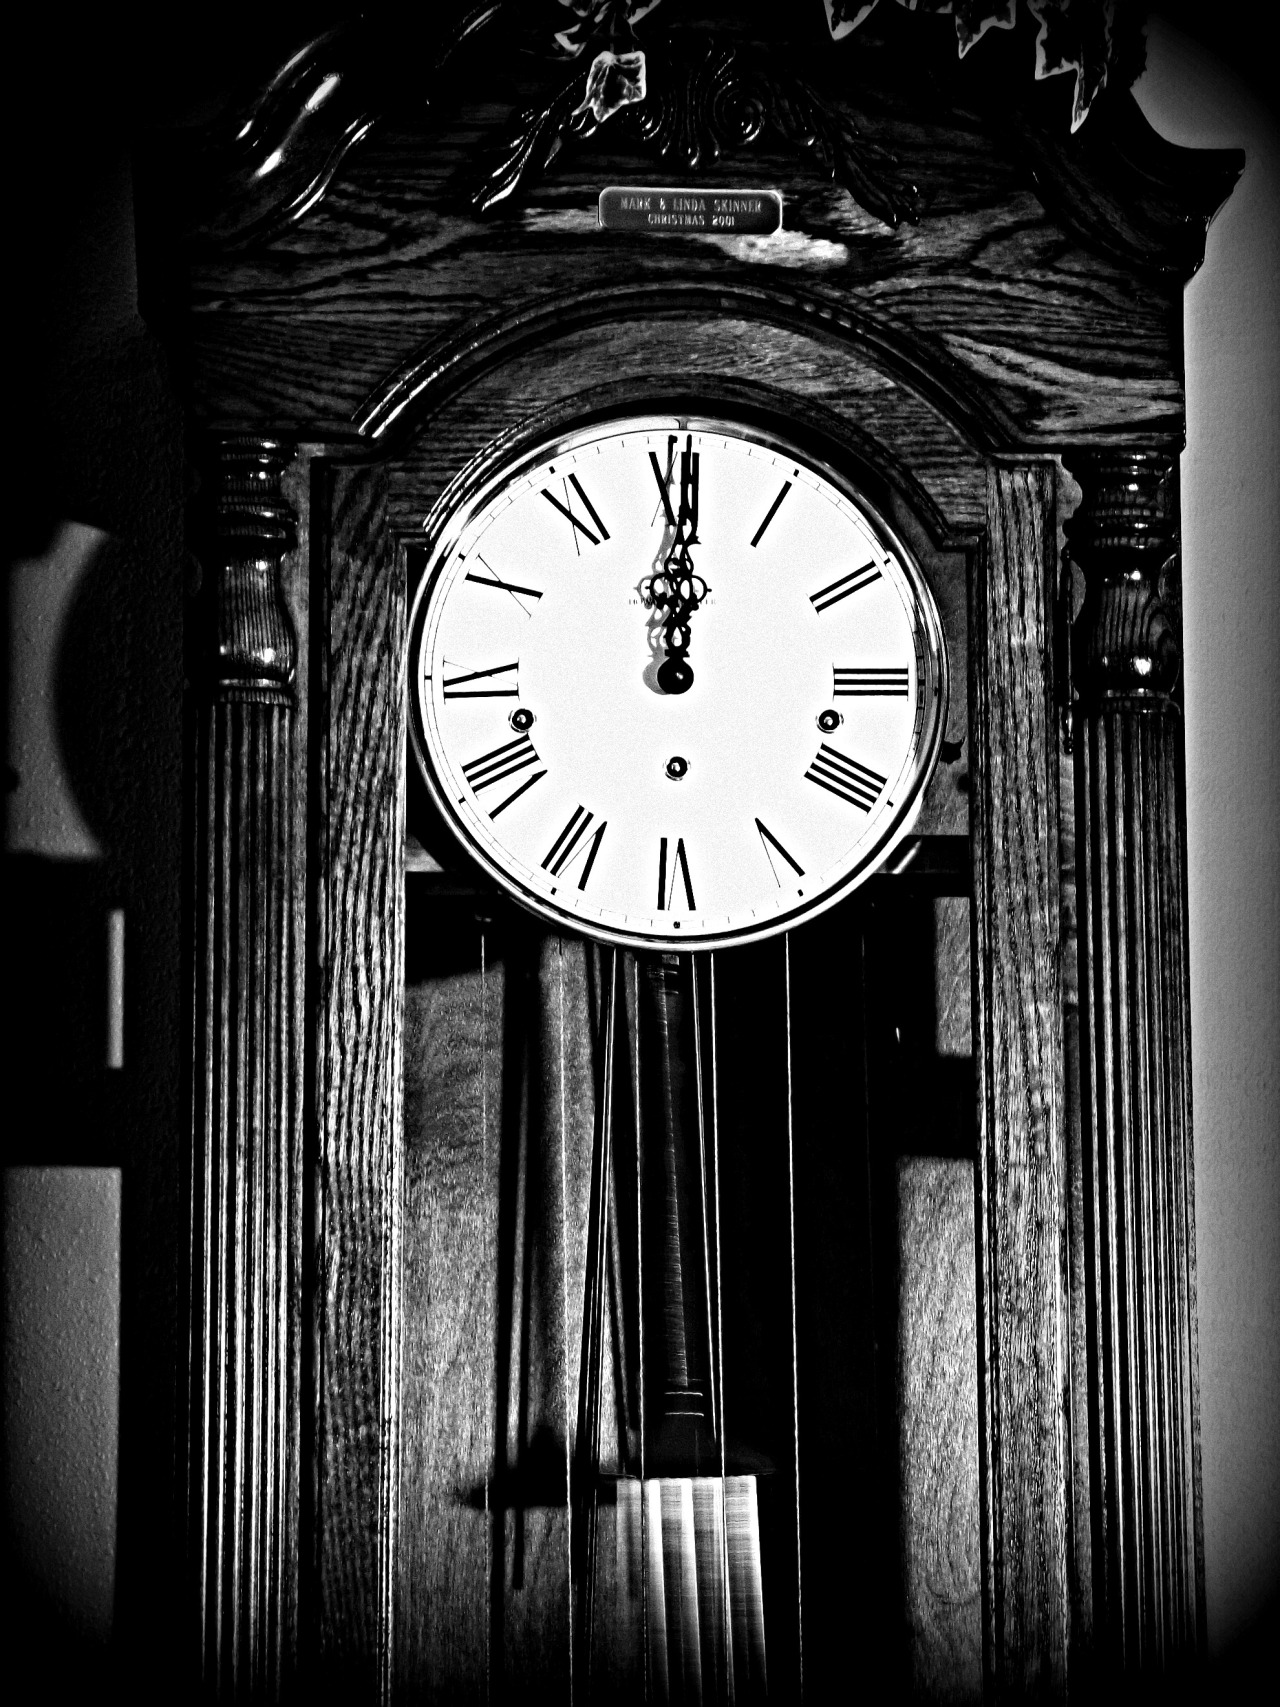clock: (424, 413, 949, 961)
